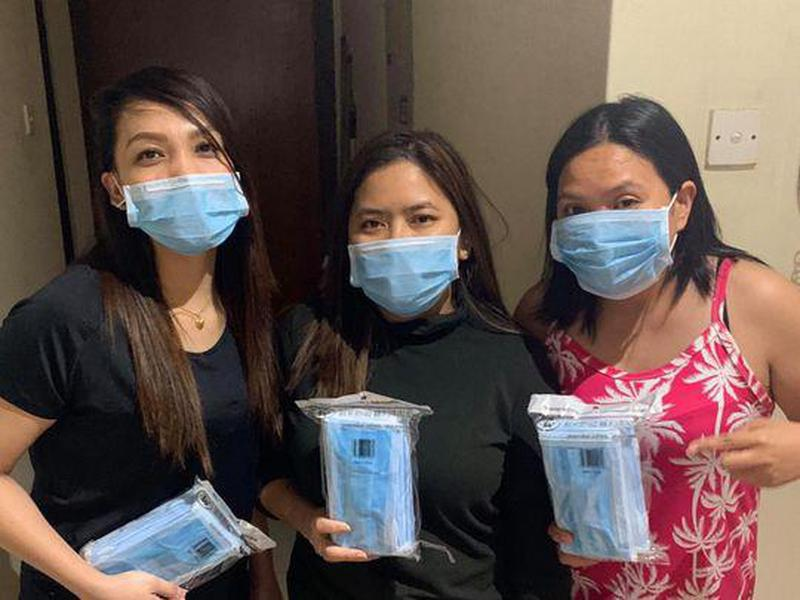with_mask: (543, 101, 716, 305), (95, 65, 258, 257), (335, 132, 485, 321)
